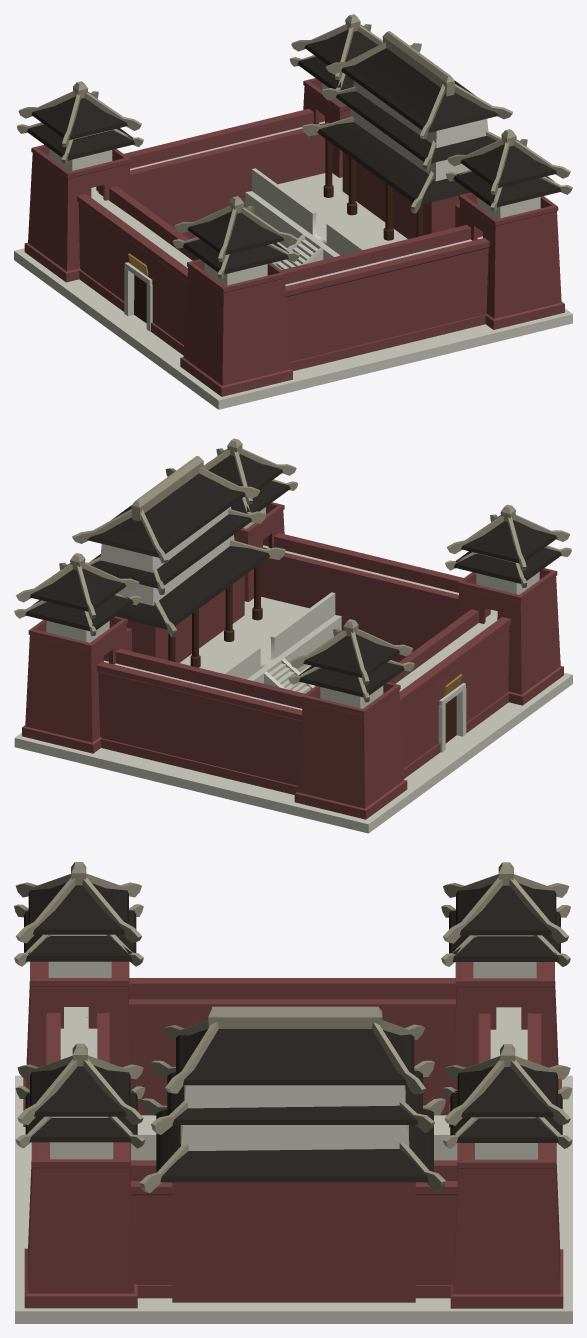
The model's file is fangzi_lv2.fbx.
3 renders of one model, top to bottom at view 1: azimuth 30°, elevation 25°; view 2: azimuth 150°, elevation 25°; view 3: azimuth 270°, elevation 25°, orthographic. The views are drawn at different scales.
Visible parts, largest first — view 1: chengqiang_1, chengqiang_2 (×4), diban, wuding_1 (×4), neichengqiang, wuding_2 (×4), wuding_5, wuding_7, pCube25, pCube44, wuding_4, pCube43 (×3) (+4 smaller); view 2: chengqiang_1, chengqiang_2 (×4), diban, wuding_1 (×4), neichengqiang, wuding_2 (×4), wuding_5, wuding_7, pCube25, wuding_4, pCube44, pCube43 (×3) (+4 smaller); view 3: chengqiang_2 (×4), chengqiang_1, pCube25, diban, wuding_1 (×4), wuding_5, wuding_2 (×4), pCube44, wuding_7, wuding_4, pCube43 (×4), pCube38 (+10 smaller).
Part boxes in pixels (bbox=[...]): chengqiang_1: bbox=[77, 108, 489, 371]; chengqiang_2 (×4): bbox=[24, 78, 564, 396]; diban: bbox=[14, 248, 572, 409]; wuding_1 (×4): bbox=[31, 30, 556, 254]; neichengqiang: bbox=[245, 168, 407, 259]; wuding_2 (×4): bbox=[27, 56, 561, 274]; wuding_5: bbox=[341, 48, 499, 132]; wuding_7: bbox=[317, 122, 470, 204]; pCube25: bbox=[342, 152, 459, 238]; pCube44: bbox=[350, 81, 488, 181]; wuding_4: bbox=[335, 91, 496, 163]; pCube43 (×3): bbox=[49, 130, 540, 285]; chengqiang_1: bbox=[97, 533, 511, 794]; chengqiang_2 (×4): bbox=[22, 502, 563, 819]; diban: bbox=[14, 672, 572, 833]; wuding_1 (×4): bbox=[29, 454, 557, 677]; neichengqiang: bbox=[180, 592, 341, 683]; wuding_2 (×4): bbox=[25, 481, 561, 697]; wuding_5: bbox=[87, 473, 245, 557]; wuding_7: bbox=[116, 546, 270, 629]; pCube25: bbox=[126, 575, 244, 662]; wuding_4: bbox=[91, 514, 252, 588]; pCube44: bbox=[100, 506, 234, 605]; pCube43 (×3): bbox=[46, 553, 539, 708]; chengqiang_2 (×4): bbox=[23, 961, 563, 1308]; chengqiang_1: bbox=[46, 978, 541, 1298]; pCube25: bbox=[172, 1182, 415, 1302]; diban: bbox=[15, 1075, 572, 1323]; wuding_1 (×4): bbox=[28, 882, 557, 1117]; wuding_5: bbox=[176, 1029, 414, 1085]; wuding_2 (×4): bbox=[24, 910, 562, 1142]; pCube44: bbox=[180, 1085, 409, 1150]; wuding_7: bbox=[156, 1109, 433, 1182]; wuding_4: bbox=[167, 1070, 422, 1124]; pCube43 (×4): bbox=[48, 934, 537, 1159]; pCube38: bbox=[208, 1006, 382, 1028].
Size of the model in its own units: 28.48 by 15.26 by 27.41.
